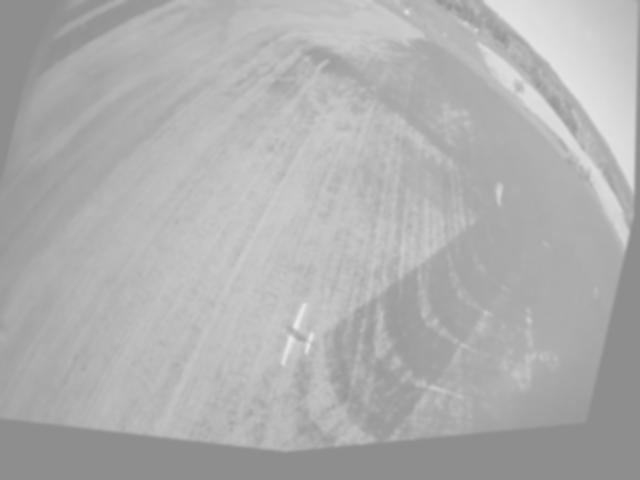hedef: (254, 288, 342, 390)
